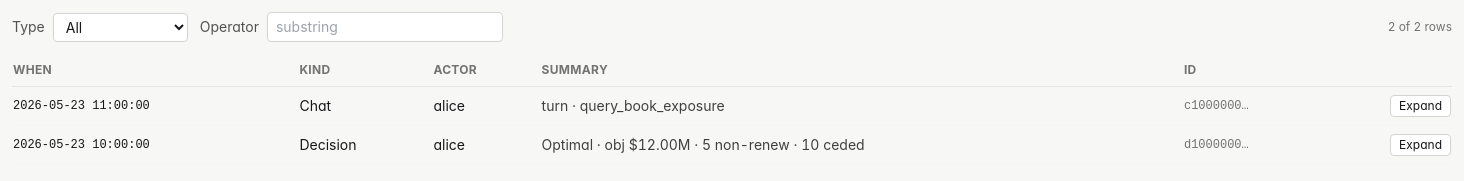
Scenario: <AuditLedger /> › type filter — "decisions only" hides chat rows
The width and height of the screenshot is (1464, 181).
Expected: the number of rows with test id "audit-row" is 2, left=12, top=86, right=1452, bottom=126; left=12, top=126, right=1452, bottom=164
Select "Decisions only" in the dropdown with test id "audit-filter-type". click: coordinates (120, 27)
box: left=53, top=12, right=188, bottom=42
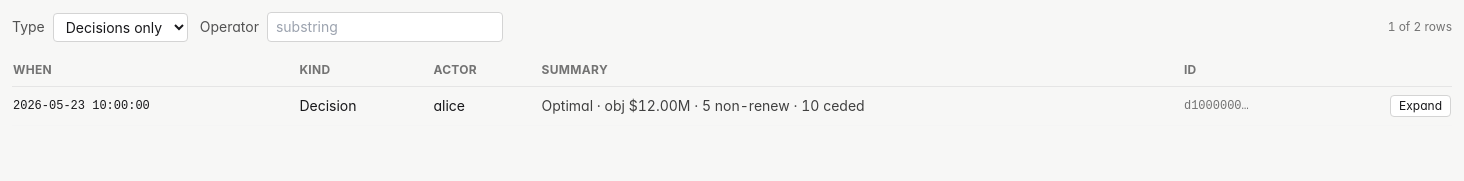
Expected: the text "Decision" is shown, left=298, top=86, right=432, bottom=126
Result: the number of rows with test id "audit-row" is 1 at left=12, top=86, right=1452, bottom=126
